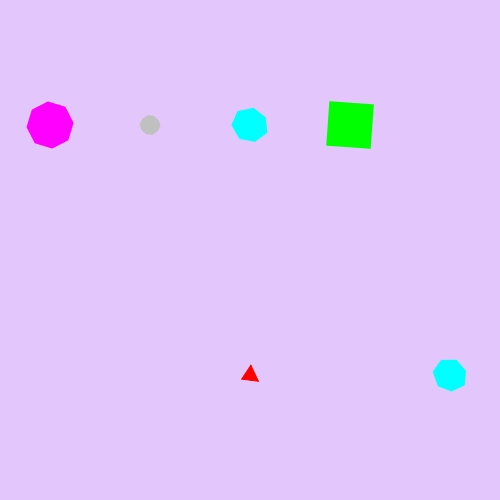decagon: (135, 111, 165, 139)
heptagon: (228, 104, 272, 146), (429, 355, 471, 395)
octagon: (23, 98, 78, 153)
quadrilateral: (316, 91, 384, 159)
triangle: (238, 362, 263, 388)
